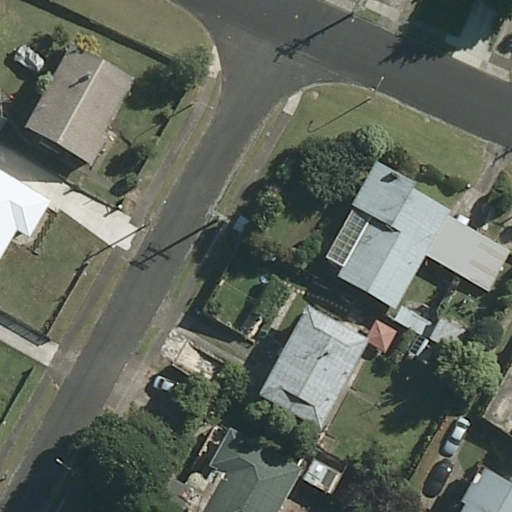DT: (346, 1, 366, 26), (206, 204, 223, 228)
